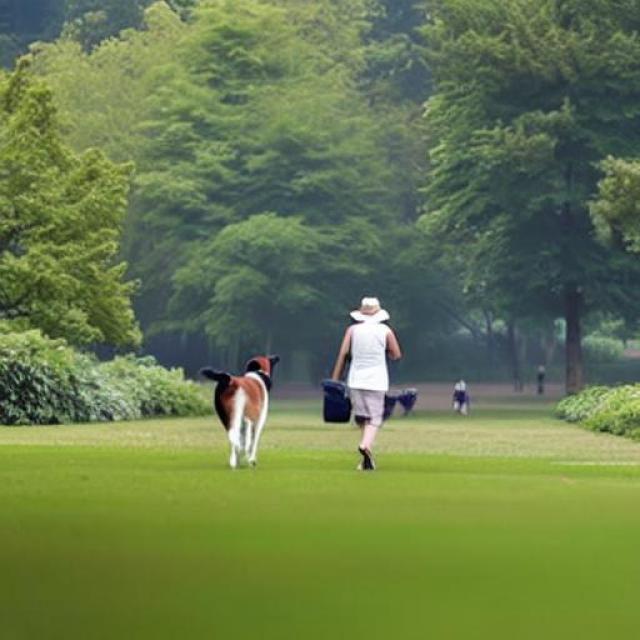Unleashed_Dog: (202, 354, 387, 470)
